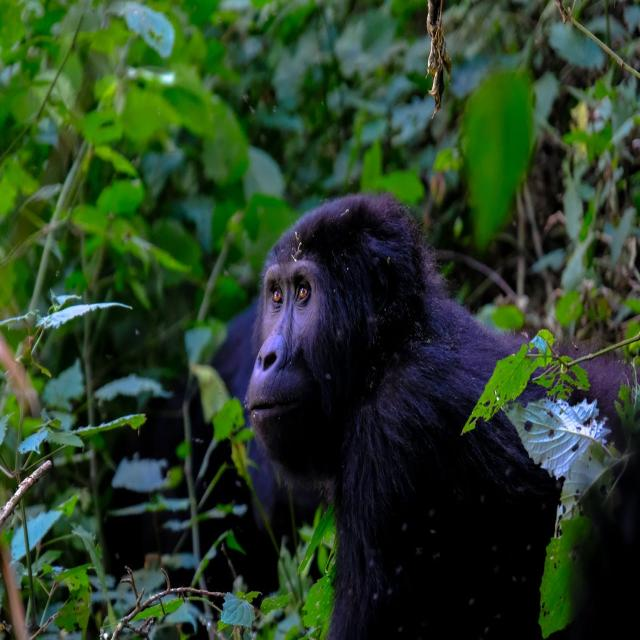Gorilla: (245, 187, 640, 640)
